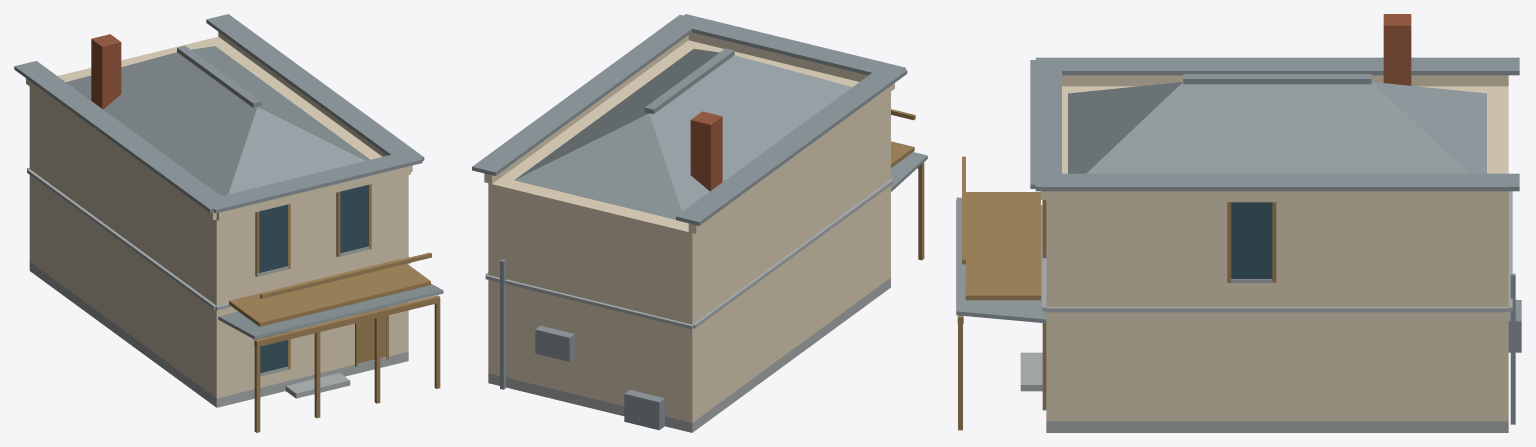
The model's file is terrace-single.glb.
The picture shows the model from 3 angles, left to right: view 1: azimuth 30°, elevation 25°; view 2: azimuth 150°, elevation 25°; view 3: azimuth 270°, elevation 25°; orthographic projection. The views are drawn at different scales.
Parts seen in each view (by area): view 1: wall-envelope, roof-concealed-hip, verandah-balcony-deck, terrace-single-coping-west, terrace-single-coping-east, terrace-single-coping-front, ground-contact-plinth, verandah-roof-plane, chimney-00, opening-front-upper-sash-left, opening-front-upper-sash-right, front-parapet (+13 smaller); view 2: wall-envelope, roof-concealed-hip, terrace-single-coping-east, terrace-single-coping-west, ground-contact-plinth, terrace-single-coping-front, chimney-00, front-parapet, west-parapet, rear-service-bin-bank, storey-line-01-west, east-parapet (+6 smaller); view 3: wall-envelope, roof-concealed-hip, terrace-single-coping-east, verandah-balcony-deck, terrace-single-coping-west, east-parapet, ground-contact-plinth, terrace-single-coping-front, opening-east-upper-sash, storey-line-01-east, verandah-roof-plane, west-parapet (+6 smaller).
Boxes of the visible parts, <box> form: wall-envelope: <box>29,36,408,398</box>; roof-concealed-hip: <box>66,46,370,195</box>; verandah-balcony-deck: <box>229,259,430,326</box>; terrace-single-coping-west: <box>14,61,231,212</box>; terrace-single-coping-east: <box>206,14,424,162</box>; terrace-single-coping-front: <box>203,151,422,213</box>; ground-contact-plinth: <box>29,262,408,407</box>; verandah-roof-plane: <box>218,283,443,339</box>; chimney-00: <box>91,34,121,109</box>; opening-front-upper-sash-left: <box>259,204,287,272</box>; opening-front-upper-sash-right: <box>340,185,368,253</box>; front-parapet: <box>216,166,410,220</box>; wall-envelope: <box>488,40,890,422</box>; roof-concealed-hip: <box>514,48,852,219</box>; terrace-single-coping-east: <box>472,15,702,175</box>; terrace-single-coping-west: <box>676,65,907,225</box>; ground-contact-plinth: <box>488,278,890,432</box>; terrace-single-coping-front: <box>673,14,905,77</box>; chimney-00: <box>690,111,722,191</box>; front-parapet: <box>688,32,868,81</box>; west-parapet: <box>688,83,894,233</box>; rear-service-bin-bank: <box>624,390,664,430</box>; storey-line-01-west: <box>693,179,893,328</box>; east-parapet: <box>484,35,688,183</box>; wall-envelope: <box>1046,86,1508,421</box>; roof-concealed-hip: <box>1068,82,1486,173</box>; terrace-single-coping-east: <box>1035,173,1519,191</box>; verandah-balcony-deck: <box>965,192,1040,300</box>; terrace-single-coping-west: <box>1035,57,1519,75</box>; east-parapet: <box>1046,191,1508,202</box>; ground-contact-plinth: <box>1046,421,1508,432</box>; terrace-single-coping-front: <box>1030,60,1061,188</box>; opening-east-upper-sash: <box>1231,202,1272,278</box>; storey-line-01-east: <box>1046,307,1508,312</box>; verandah-roof-plane: <box>956,197,1046,323</box>; west-parapet: <box>1062,75,1508,86</box>.
Size of the model in its own units: 7.14 by 8.15 by 13.2.
